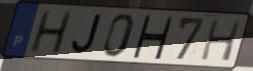0: (102, 13, 137, 59)
7: (175, 16, 208, 62)
H: (28, 10, 74, 56), (130, 14, 175, 61), (198, 18, 244, 63)
J: (69, 13, 103, 56)
